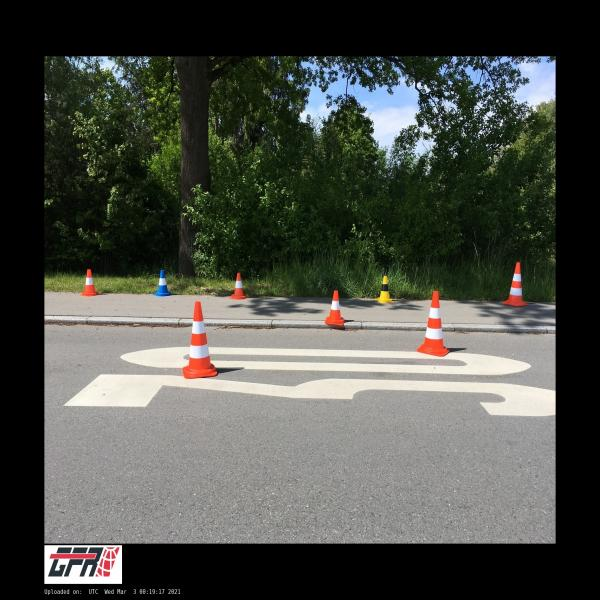blue_cone: (154, 269, 171, 297)
large_orange_cone: (183, 301, 216, 379), (417, 291, 451, 356), (502, 262, 528, 307)
orange_cone: (324, 290, 344, 326), (80, 269, 98, 296), (230, 272, 247, 300)
yellow_cone: (375, 276, 394, 303)
